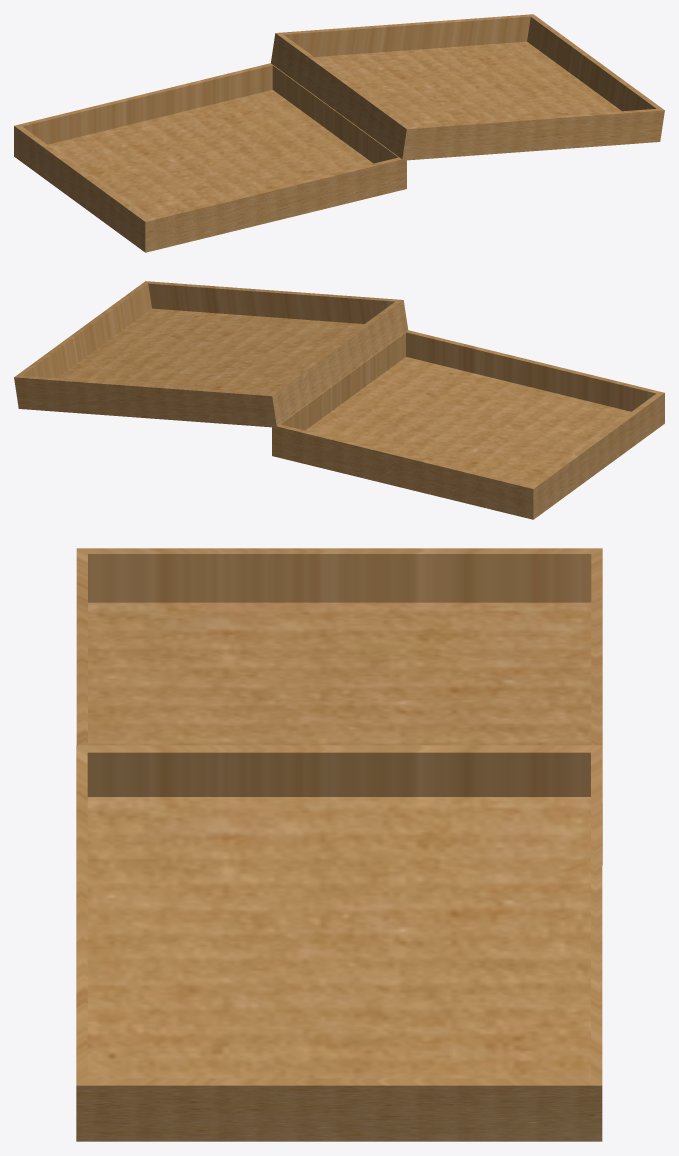
File: PIZZA(1).fbx
3 views of the same model, one above another, from view 1: azimuth 30°, elevation 25°; view 2: azimuth 150°, elevation 25°; view 3: azimuth 270°, elevation 25° (orthographic). The views are drawn at different scales.
Visible parts, largest first — view 1: pCube48; view 2: pCube48; view 3: pCube48.
Boxes of the visible parts, x1,y1,x2,y2 form: pCube48: (14,14,664,252); pCube48: (14,281,664,519); pCube48: (76,548,602,1141).
Size of the model in its own units: 5.55 by 0.7606 by 2.43.
1 material, 1 textured.
